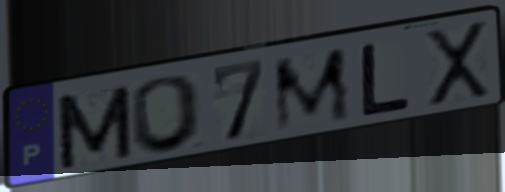7: (210, 55, 268, 146)
L: (358, 40, 414, 120)
M: (270, 43, 355, 136), (52, 81, 136, 173)
O: (128, 72, 206, 157)
X: (422, 18, 494, 111)
